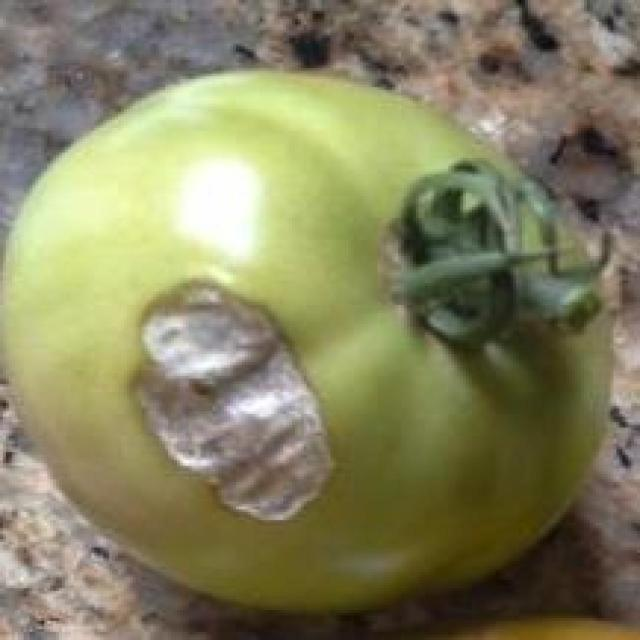Sunscald Fruit: (74, 170, 218, 353)
